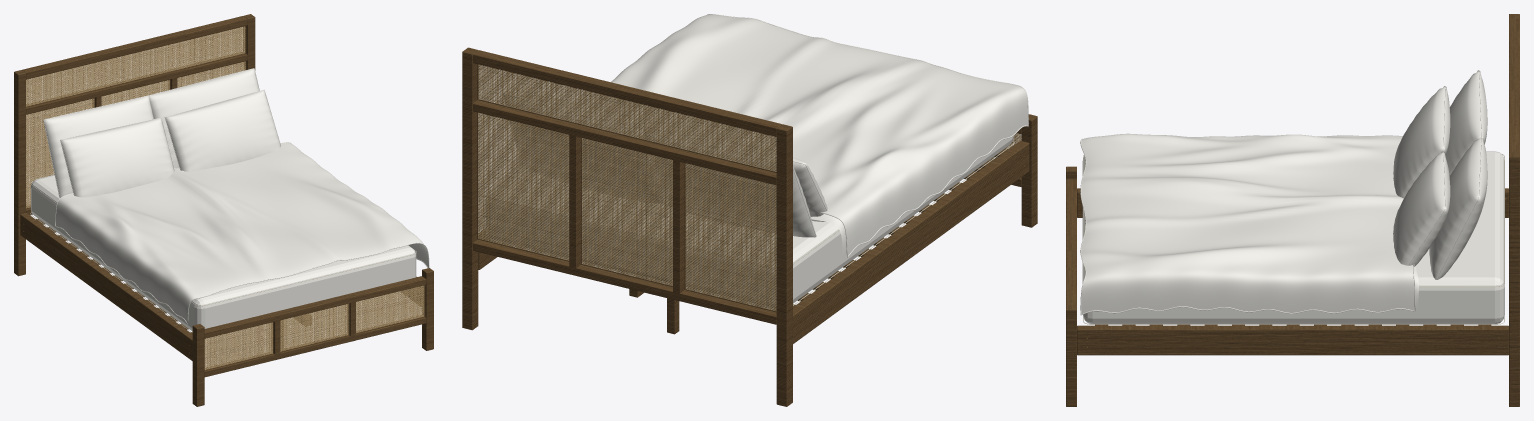
3 renders of one model, left to right at view 1: azimuth 30°, elevation 25°; view 2: azimuth 150°, elevation 25°; view 3: azimuth 270°, elevation 25°, orthographic. The views are drawn at different scales.
Parts seen in each view (by area): view 1: NEW HOI AN LV453.B01 | queen-5 web batch; view 2: NEW HOI AN LV453.B01 | queen-5 web batch; view 3: NEW HOI AN LV453.B01 | queen-5 web batch.
Boxes of the visible parts, left/top/right/bottom form: NEW HOI AN LV453.B01 | queen-5 web batch: left=14, top=14, right=433, bottom=406; NEW HOI AN LV453.B01 | queen-5 web batch: left=462, top=14, right=1037, bottom=406; NEW HOI AN LV453.B01 | queen-5 web batch: left=1066, top=14, right=1519, bottom=406.
Size of the model in its own units: 1.62 by 1.3 by 2.14.
7 materials, 2 textured.
